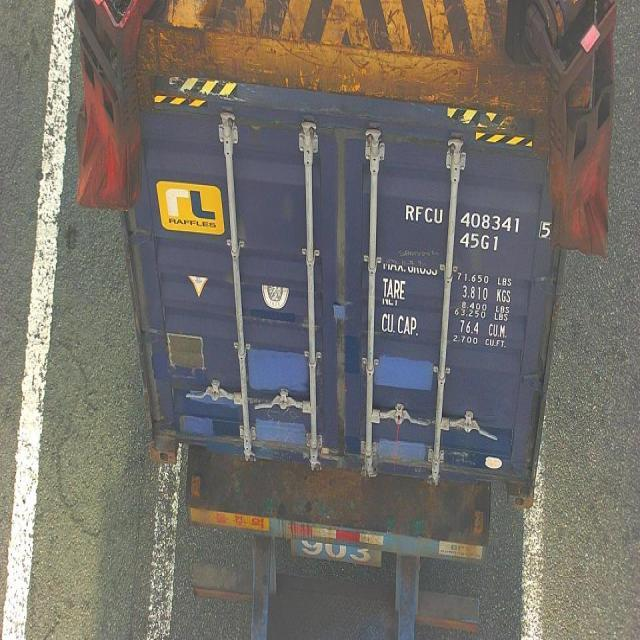ISO: (462, 233, 499, 251)
container_number: (407, 201, 553, 236)
